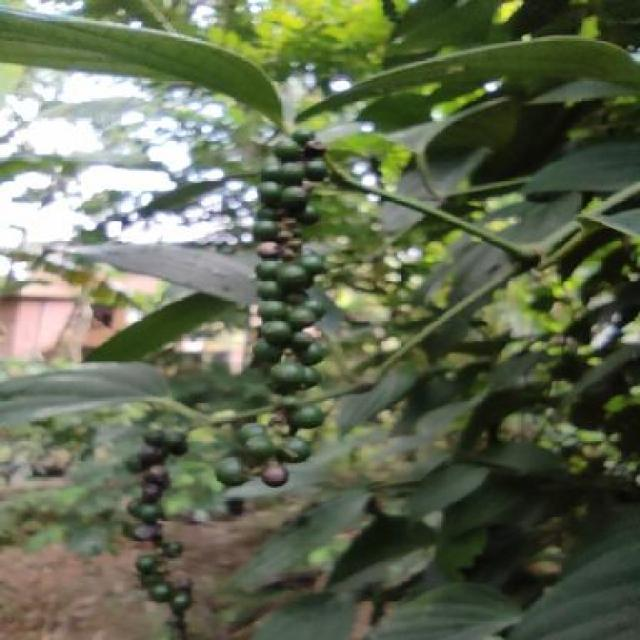UNRIPE: (244, 132, 325, 463), (129, 430, 194, 613)
